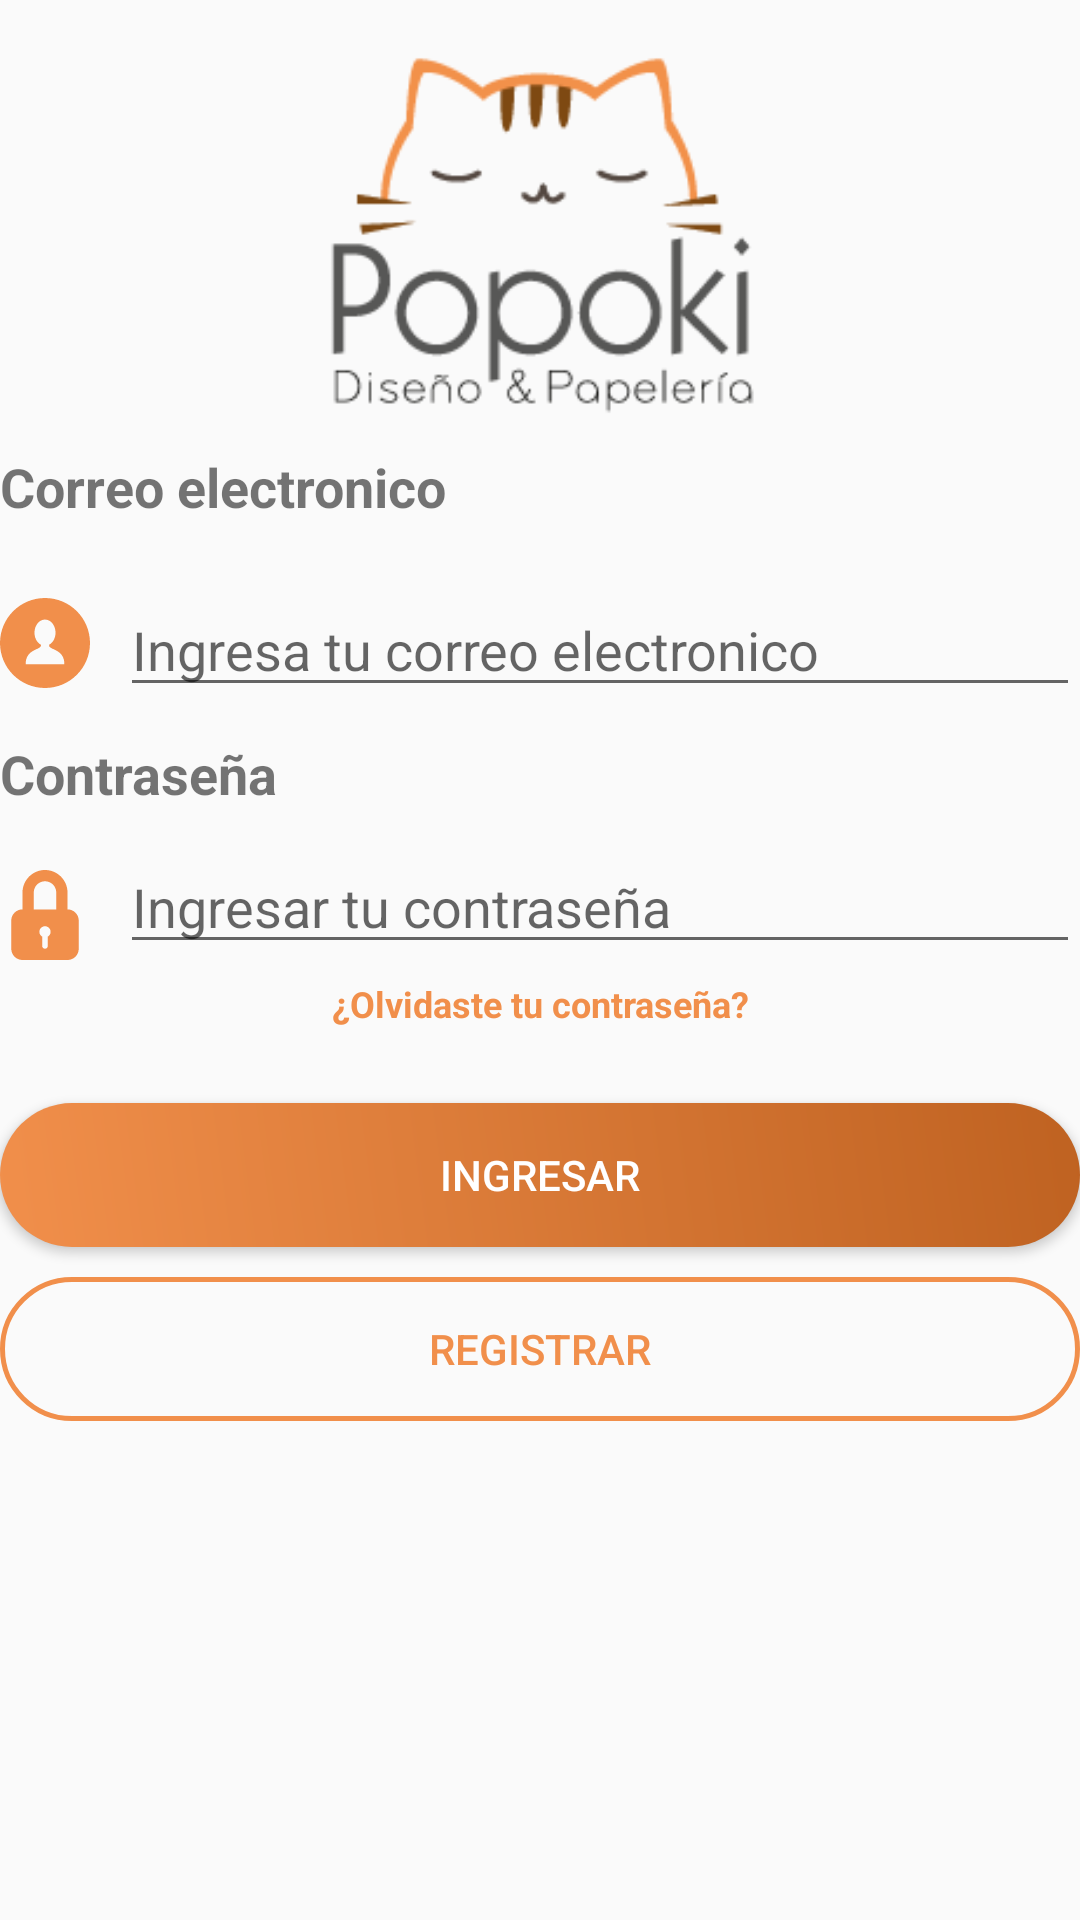

Icon bounding boxes for this 1080*1920 phone screenshot, format bbox=[x1, y1, x2, y2]:
candado: bbox=[11, 870, 79, 960]
usuario: bbox=[0, 598, 90, 688]
